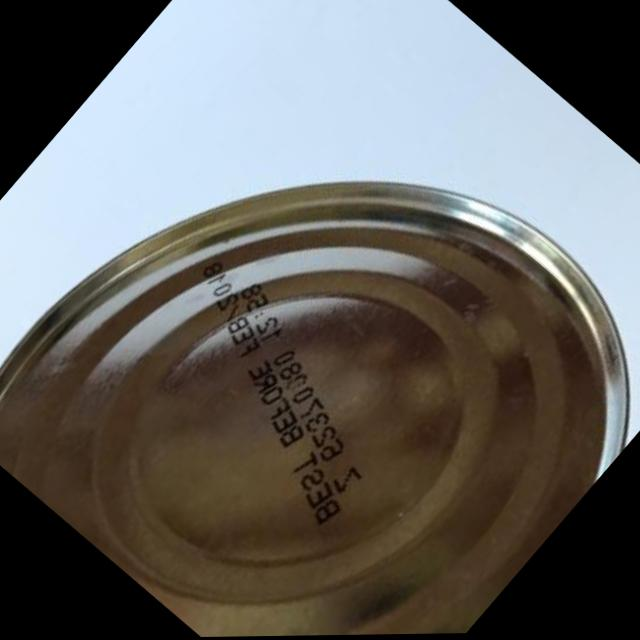metal: (0, 8, 640, 640)
